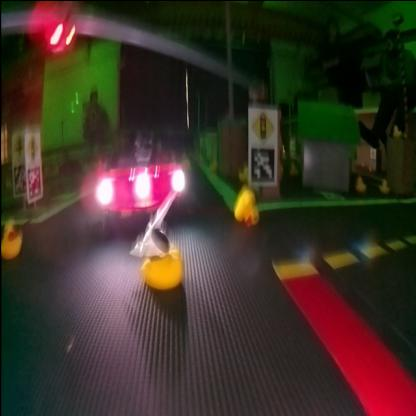Duckie: (233, 188, 260, 224), (3, 223, 22, 255), (380, 178, 390, 190), (356, 175, 364, 189), (396, 126, 401, 134)
Duckiebot: (94, 141, 187, 221)
Intersection sign: (12, 130, 25, 160)
QR code: (251, 145, 275, 181), (26, 164, 42, 202), (12, 164, 26, 197)
Signal sign: (250, 108, 276, 142), (25, 131, 41, 162)
Traffic light: (45, 6, 77, 48)
